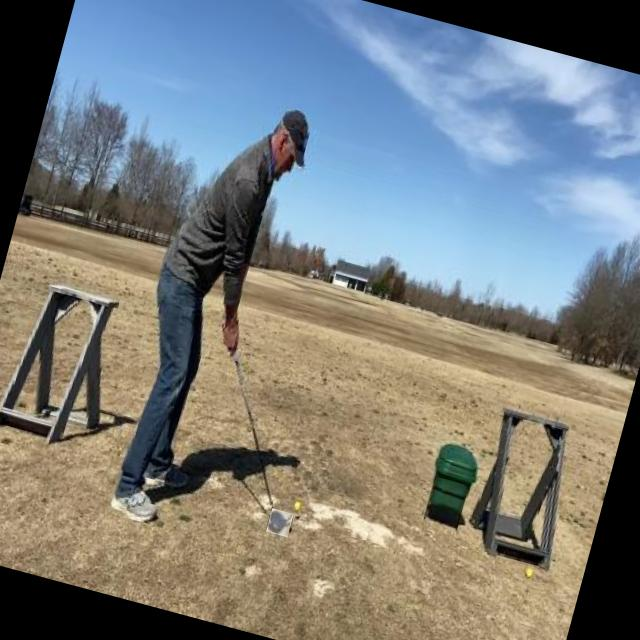club head: (266, 508, 292, 537)
